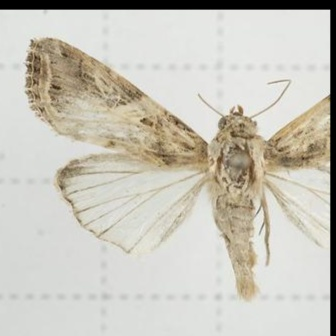Spodoptera litura: (23, 36, 329, 302)
